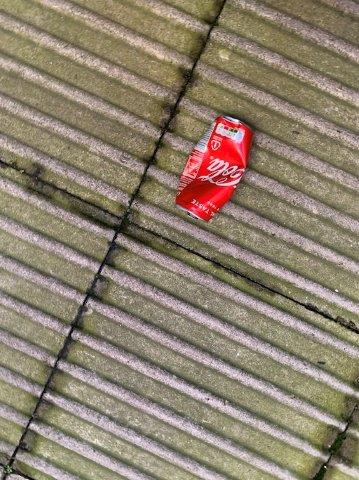kaleng: (176, 116, 253, 222)
